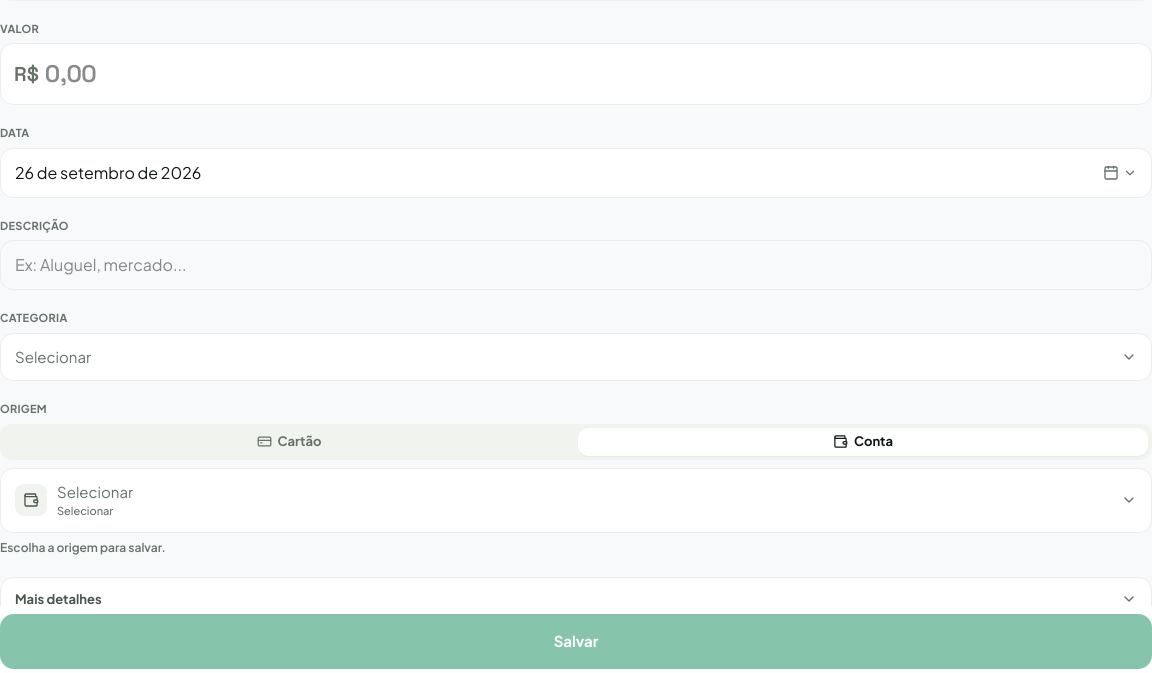
Test: NewTransactionSheet › shows the per-installment invoice microcopy (B3)
Type "600000" into the field with placeholder "0,00".
click(576, 74); type("600000")  # box x1=0 y1=43 x2=1151 y2=105
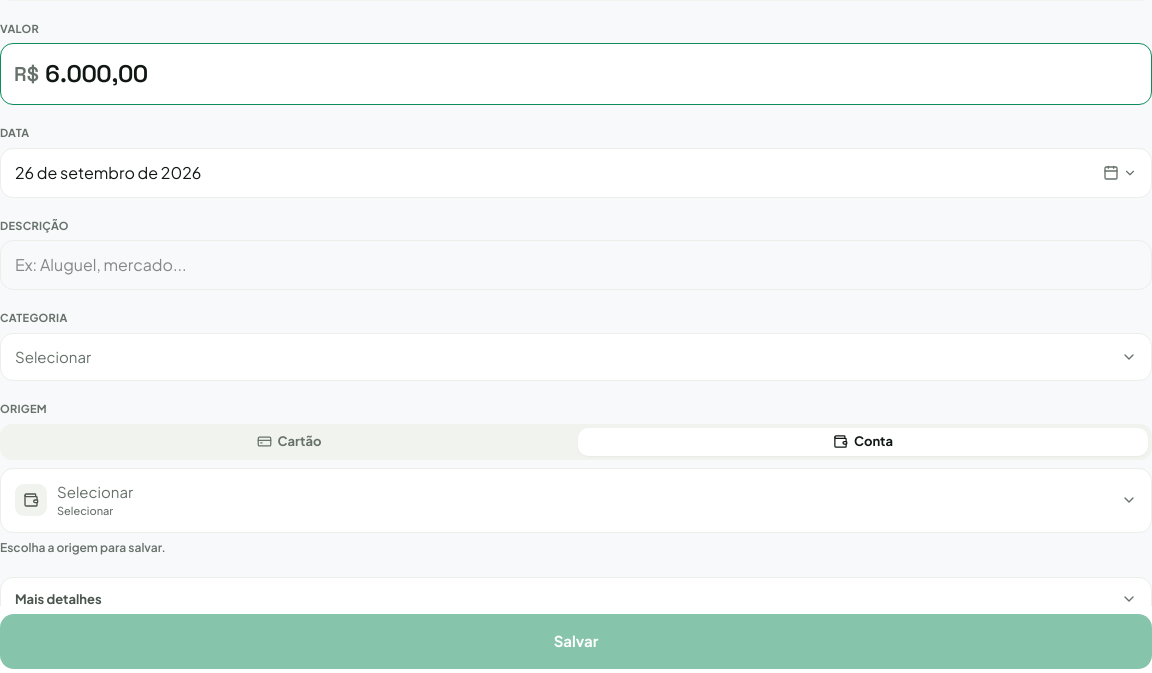
Click the button "Cartão".
click(289, 442)  # box x1=4 y1=428 x2=574 y2=456
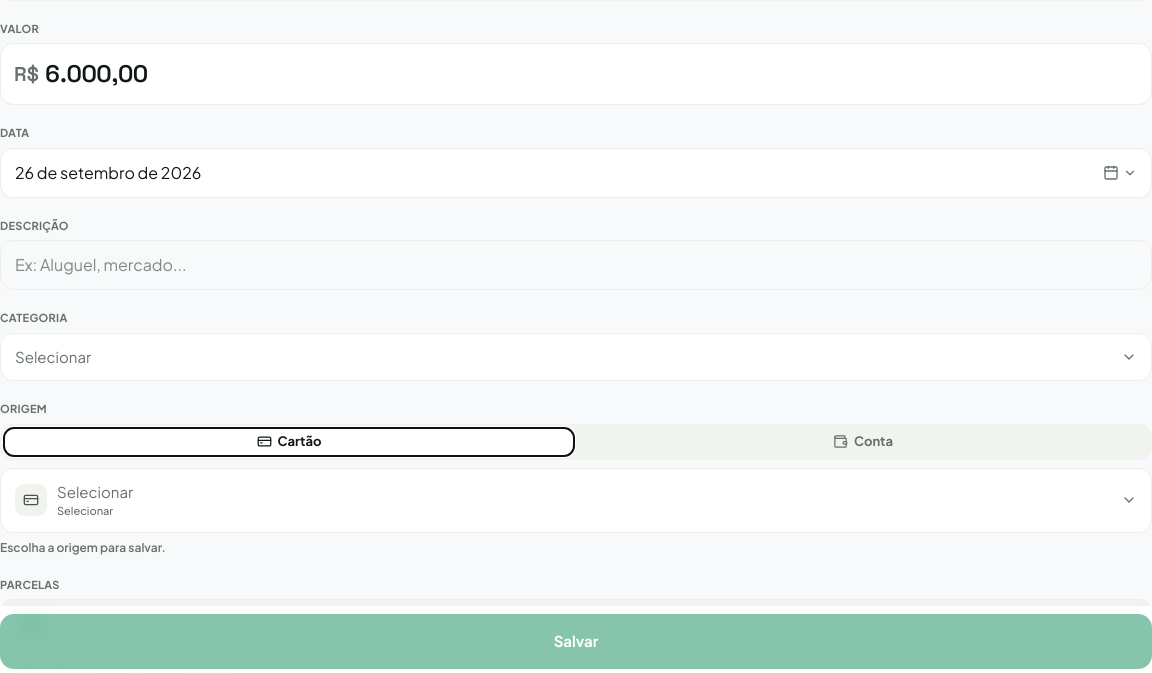
Click the button with aria-label "Selecionar conta ou cartão".
click(31, 500)  # box x1=0 y1=468 x2=1151 y2=532
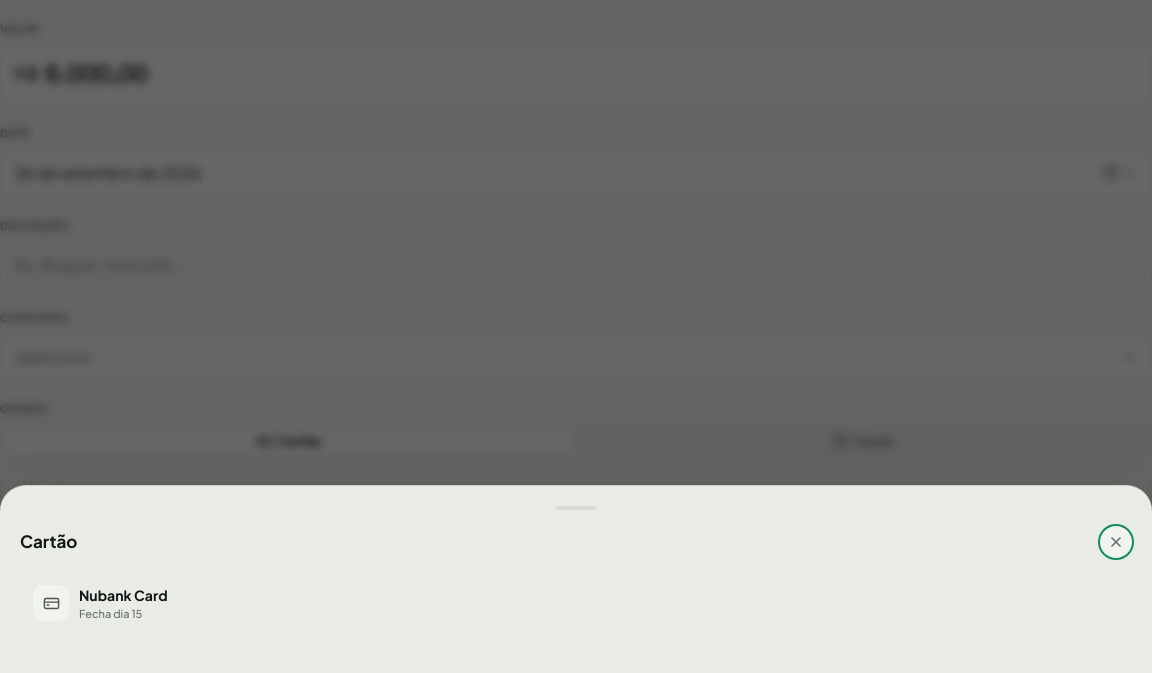
Click the button "Nubank Card Fecha dia 15".
click(51, 603)  # box x1=20 y1=574 x2=1132 y2=633
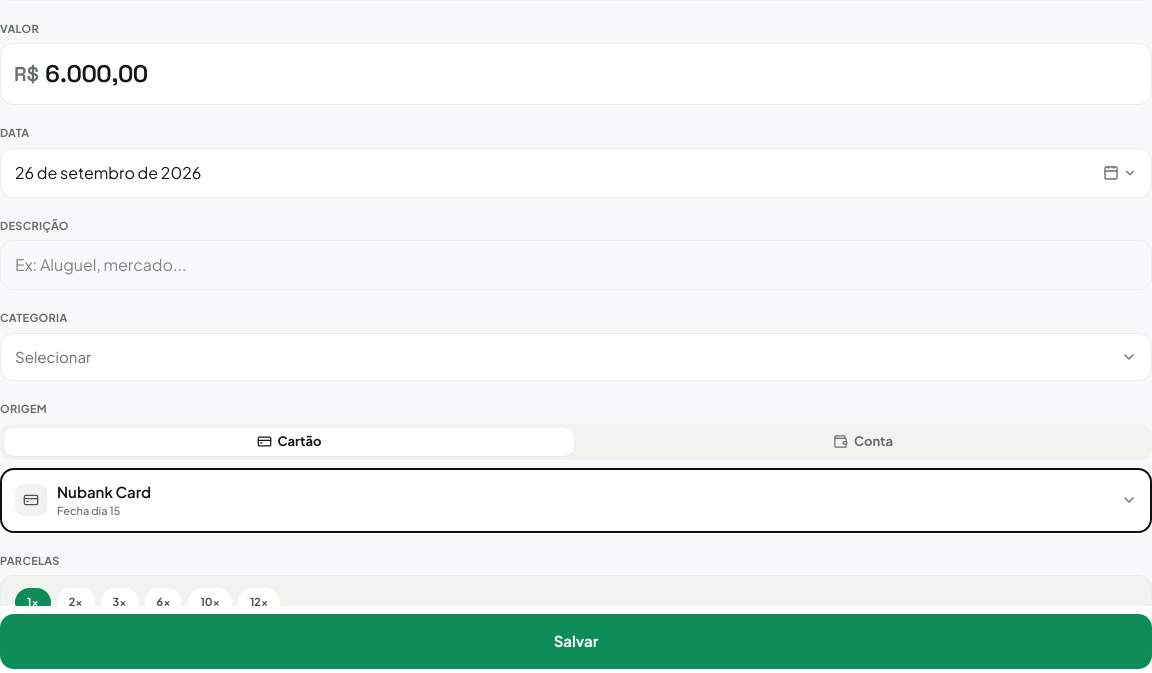
Click the button "6x".
click(163, 602)  # box x1=144 y1=588 x2=182 y2=616
(page scrolled)
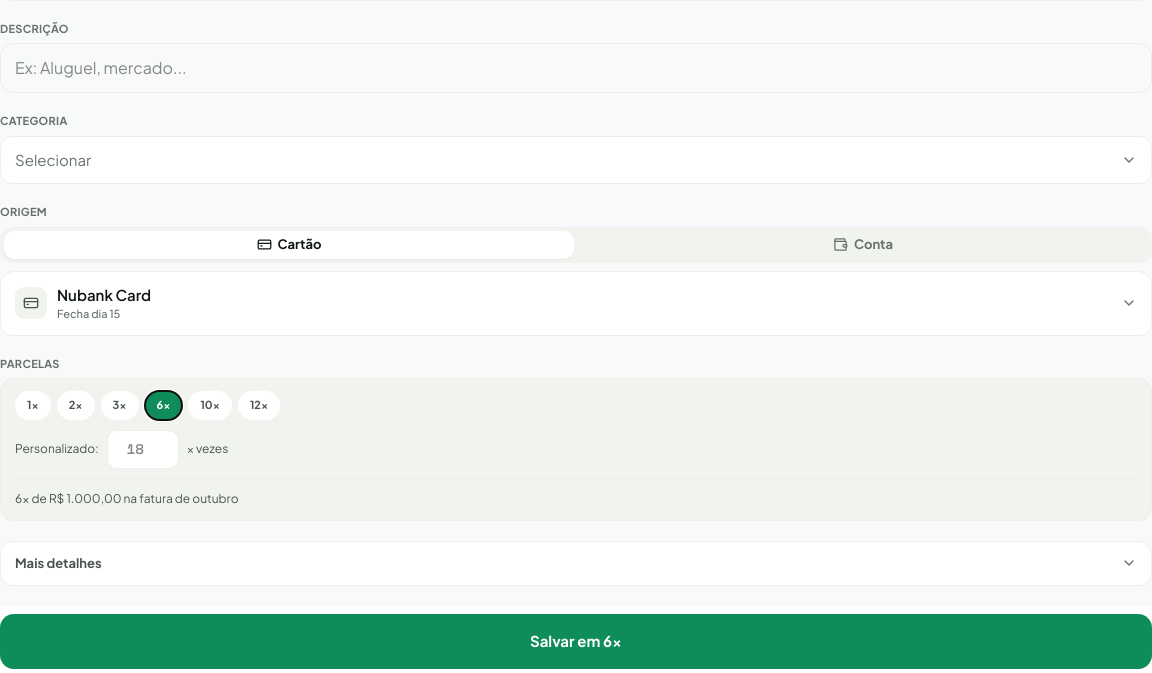
Result: the text "6x de R$ 1.000,00 na fatura de outubro" is shown at x1=15 y1=478 x2=1137 y2=508
